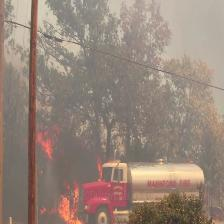fire: (30, 111, 94, 224)
nofire: (84, 158, 128, 224)
